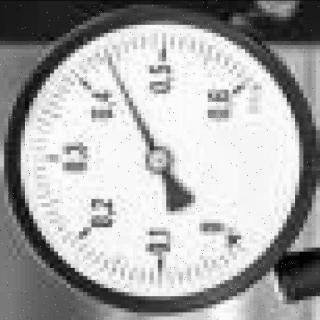gauge: (0, 5, 320, 316), (217, 63, 265, 112), (210, 208, 253, 254), (144, 146, 172, 174), (104, 52, 114, 70)
